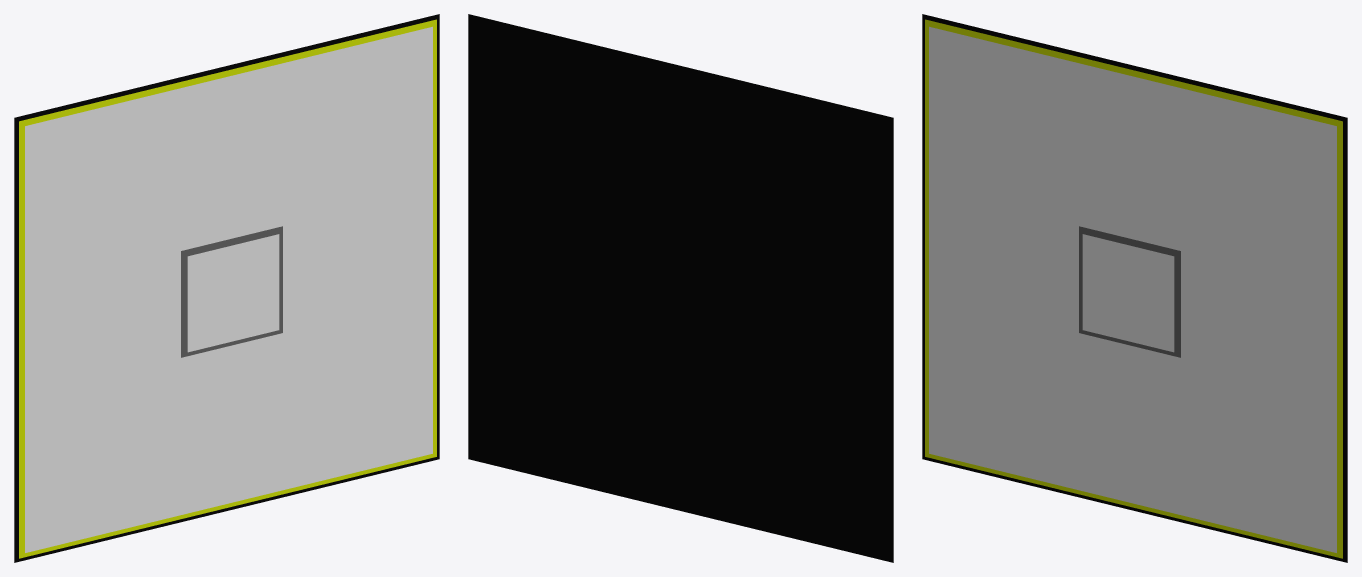
File: METER_01.glb
The picture shows the model from 3 angles, left to right: view 1: azimuth 30°, elevation 25°; view 2: azimuth 150°, elevation 25°; view 3: azimuth 330°, elevation 25°; orthographic projection.
Parts seen in each view (by area): view 1: meterBG2, meterBG3, obj1; view 2: meterBG2; view 3: meterBG2, meterBG3, obj1.
Boxes of the visible parts, x1=… form: meterBG2: x1=14, y1=14, x2=439, y2=562; meterBG3: x1=181, y1=226, x2=282, y2=357; obj1: x1=71, y1=327, x2=180, y2=426; meterBG2: x1=468, y1=14, x2=893, y2=562; meterBG2: x1=922, y1=14, x2=1347, y2=562; meterBG3: x1=1079, y1=226, x2=1180, y2=357; obj1: x1=972, y1=303, x2=1078, y2=349.
Bounding box in the file's own units: 1.03 × 1.03 × 0.0273.
3 materials, 3 textured.
